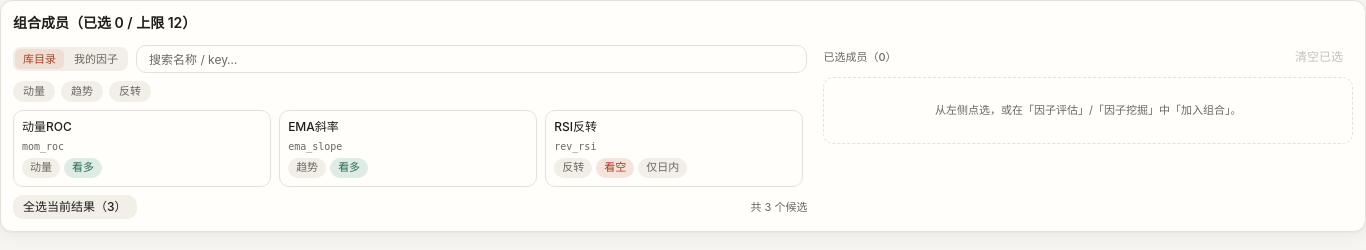
MemberPalette › guides the user when there are no enabled factors
Click the button "我的因子": x=96, y=59 [66,49,126,69]
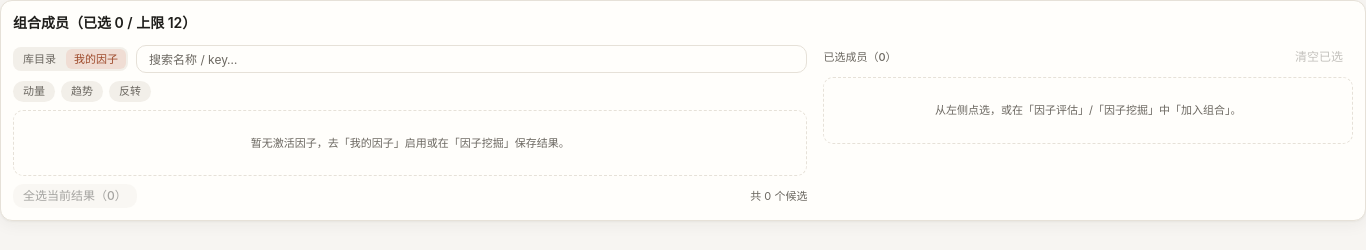
expect the text "暂无激活因子，去「我的因子」启用或在「因子挖掘」保存结果。" is shown: met, box [13,110,807,176]
